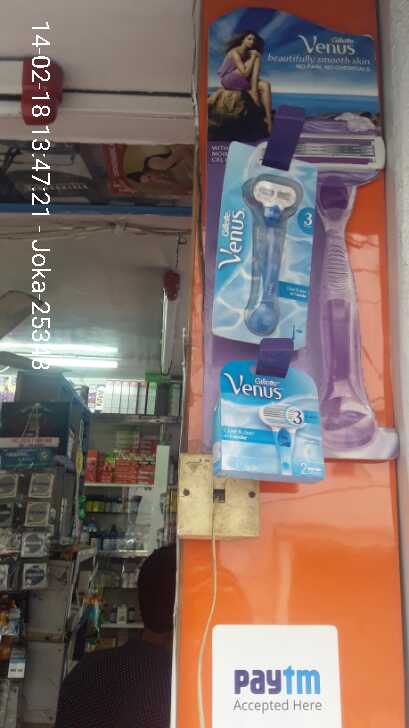beauty: (211, 135, 315, 348), (215, 359, 326, 479), (250, 68, 289, 110)
